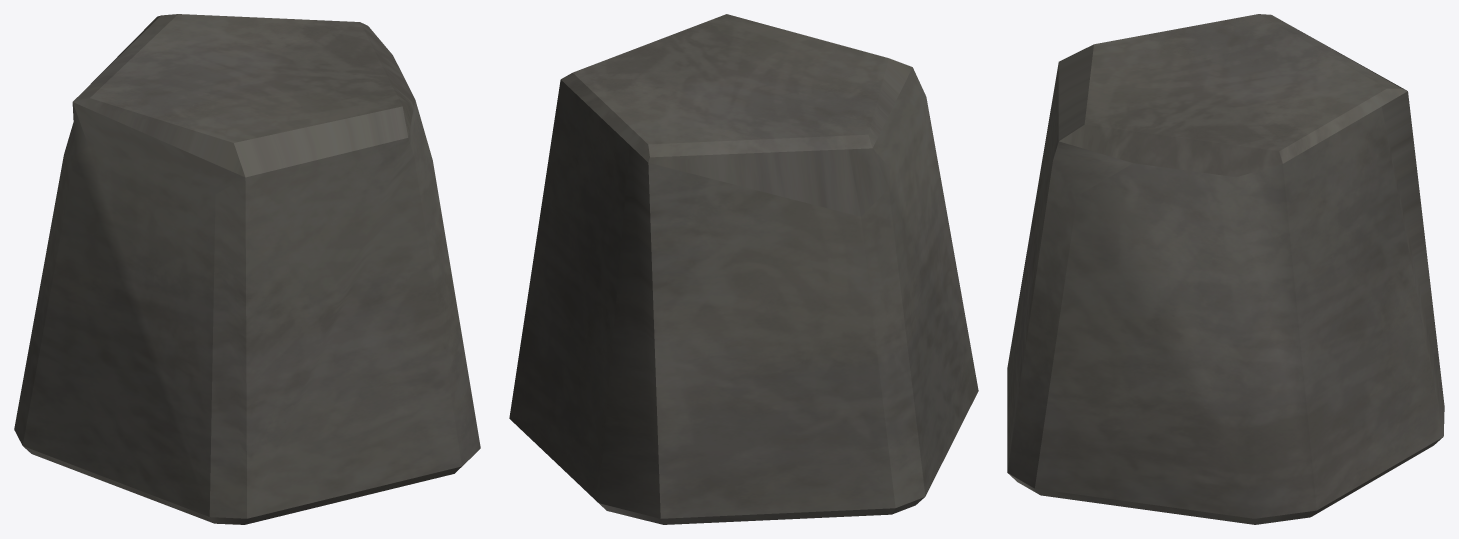
File: ZachMesaRock33.fbx
The picture shows the model from 3 angles, left to right: view 1: azimuth 30°, elevation 25°; view 2: azimuth 150°, elevation 25°; view 3: azimuth 270°, elevation 25°; orthographic projection.
Parts seen in each view (by area): view 1: ZachMesaRock33; view 2: ZachMesaRock33; view 3: ZachMesaRock33.
Part boxes in pixels (box(x1,y1,x2,y2)): ZachMesaRock33: box(14, 14, 480, 524); ZachMesaRock33: box(509, 14, 978, 524); ZachMesaRock33: box(1007, 14, 1444, 524).
Bounding box in the file's own units: 2.43 × 2 × 2.27.
